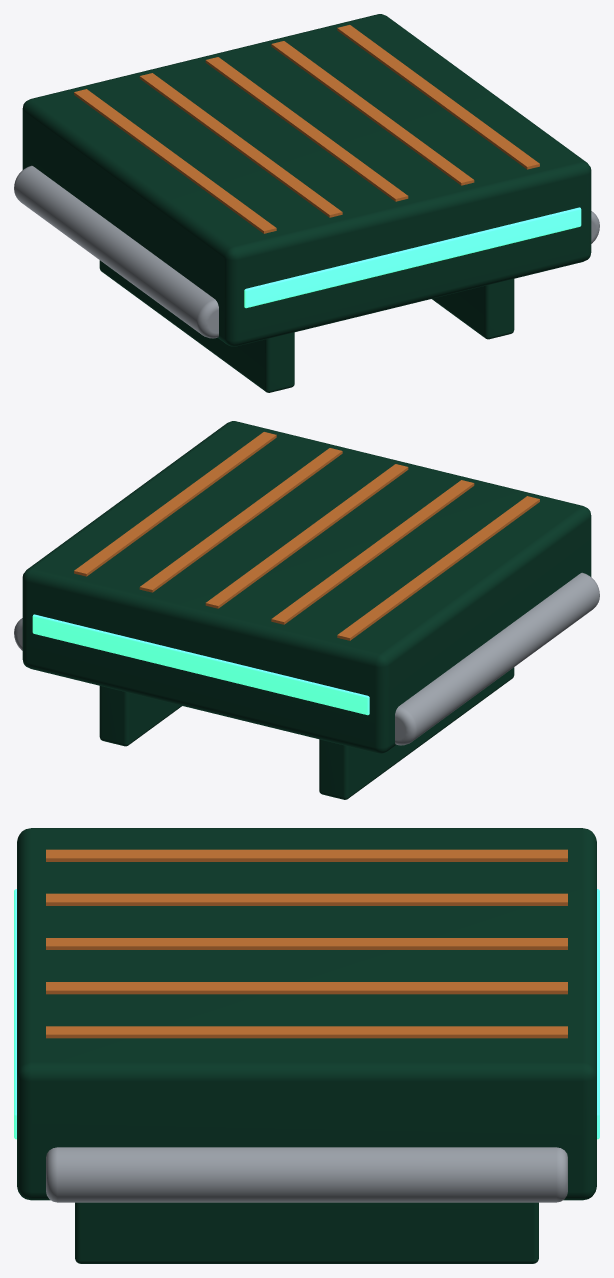
Rendered from bridge.glb.
The picture shows the model from 3 angles, top to bottom: view 1: azimuth 30°, elevation 25°; view 2: azimuth 150°, elevation 25°; view 3: azimuth 270°, elevation 25°; orthographic projection. The views are drawn at different scales.
Parts seen in each view (by area): view 1: bridge; view 2: bridge; view 3: bridge.
Boxes of the visible parts, x1=… form: bridge: x1=14, y1=14, x2=599, y2=392; bridge: x1=14, y1=421, x2=599, y2=799; bridge: x1=14, y1=828, x2=599, y2=1263.
Size of the model in its own units: 1.1 by 0.457 by 1.01.
